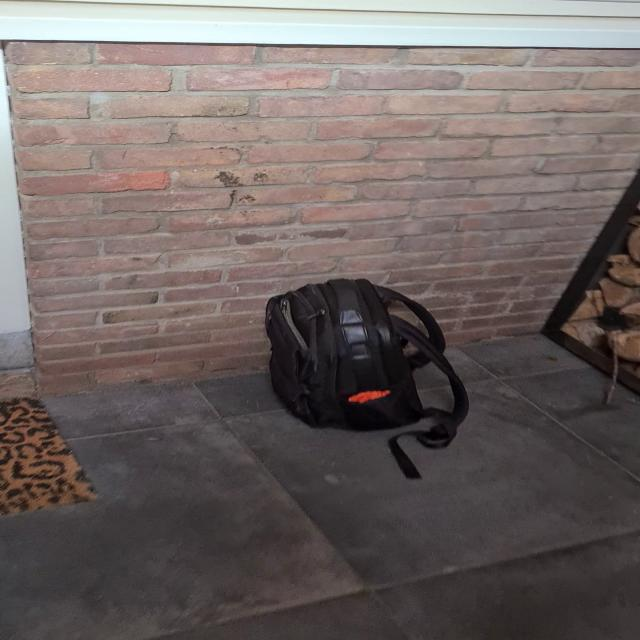backpack: (252, 274, 469, 444)
